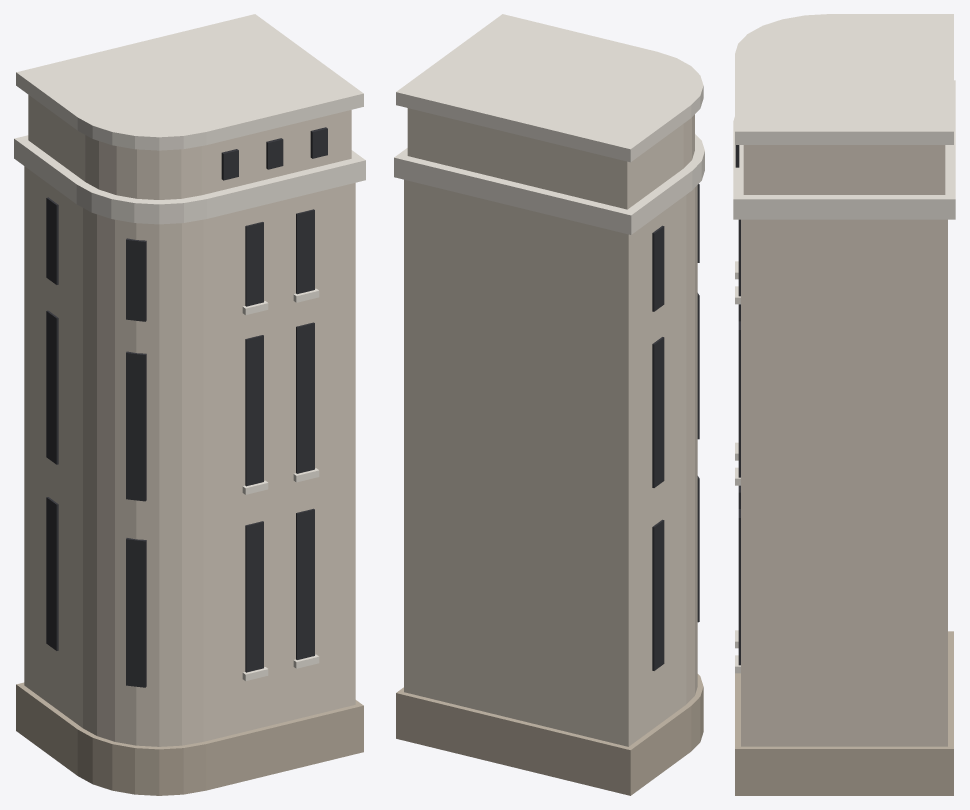
Rendered from fachada_ala_esquerda.glb.
3 renders of one model, left to right at view 1: azimuth 30°, elevation 25°; view 2: azimuth 150°, elevation 25°; view 3: azimuth 270°, elevation 25°, orthographic. The views are drawn at different scales.
Visible parts, largest first — view 1: fachada_ala_esquerda; view 2: fachada_ala_esquerda; view 3: fachada_ala_esquerda.
Part boxes in pixels (x1,y1,x2,y2): fachada_ala_esquerda: (14,14,365,795); fachada_ala_esquerda: (394,14,704,795); fachada_ala_esquerda: (733,14,955,795).
Size of the model in its own units: 1.9 by 4.95 by 1.5.
